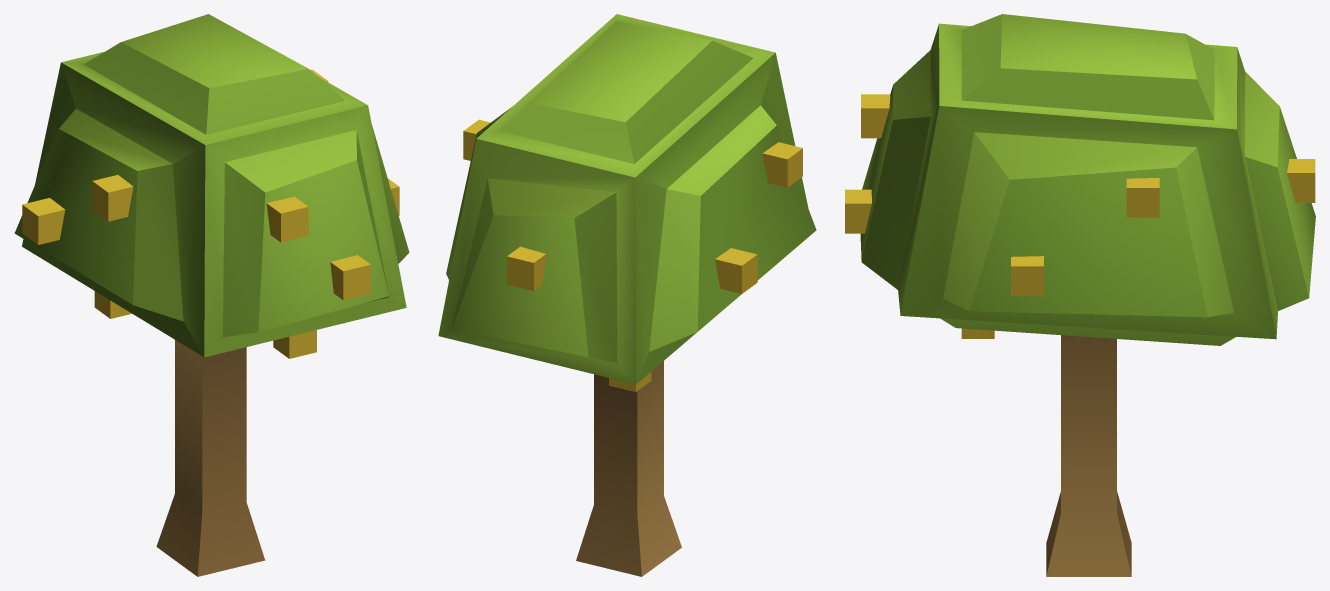
File: Prop_Tree_Lemon.glb
3 views of the same model, side by side, from view 1: azimuth 30°, elevation 25°; view 2: azimuth 150°, elevation 25°; view 3: azimuth 270°, elevation 25° (orthographic). The views are drawn at different scales.
Visible parts, largest first — view 1: Prop_Tree_Lemon; view 2: Prop_Tree_Lemon; view 3: Prop_Tree_Lemon.
Boxes of the visible parts, x1,y1,x2,y2 form: Prop_Tree_Lemon: (14,14,409,576); Prop_Tree_Lemon: (438,14,816,576); Prop_Tree_Lemon: (845,14,1315,576).
Size of the model in its own units: 1.23 by 1.97 by 1.6.
1 material, 1 textured.
